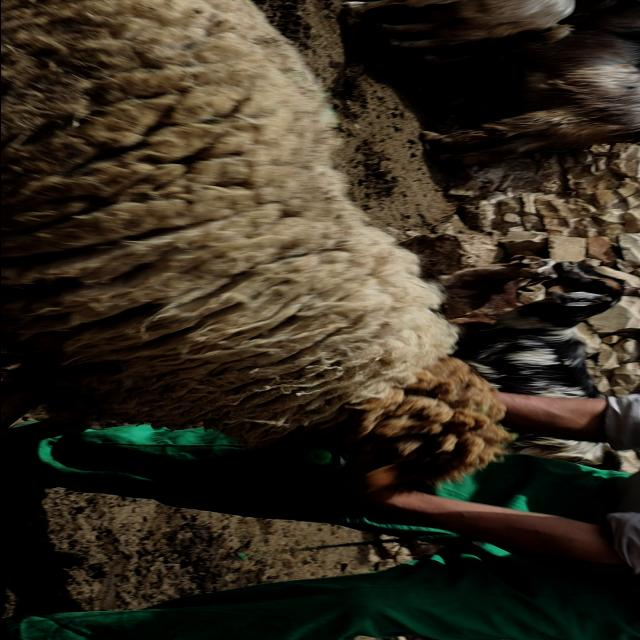Score_2: (1, 0, 511, 482)
